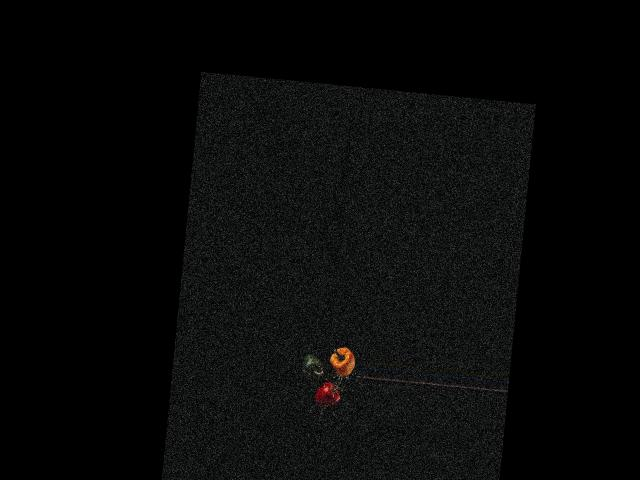bell_pepper: (309, 376, 348, 408)
